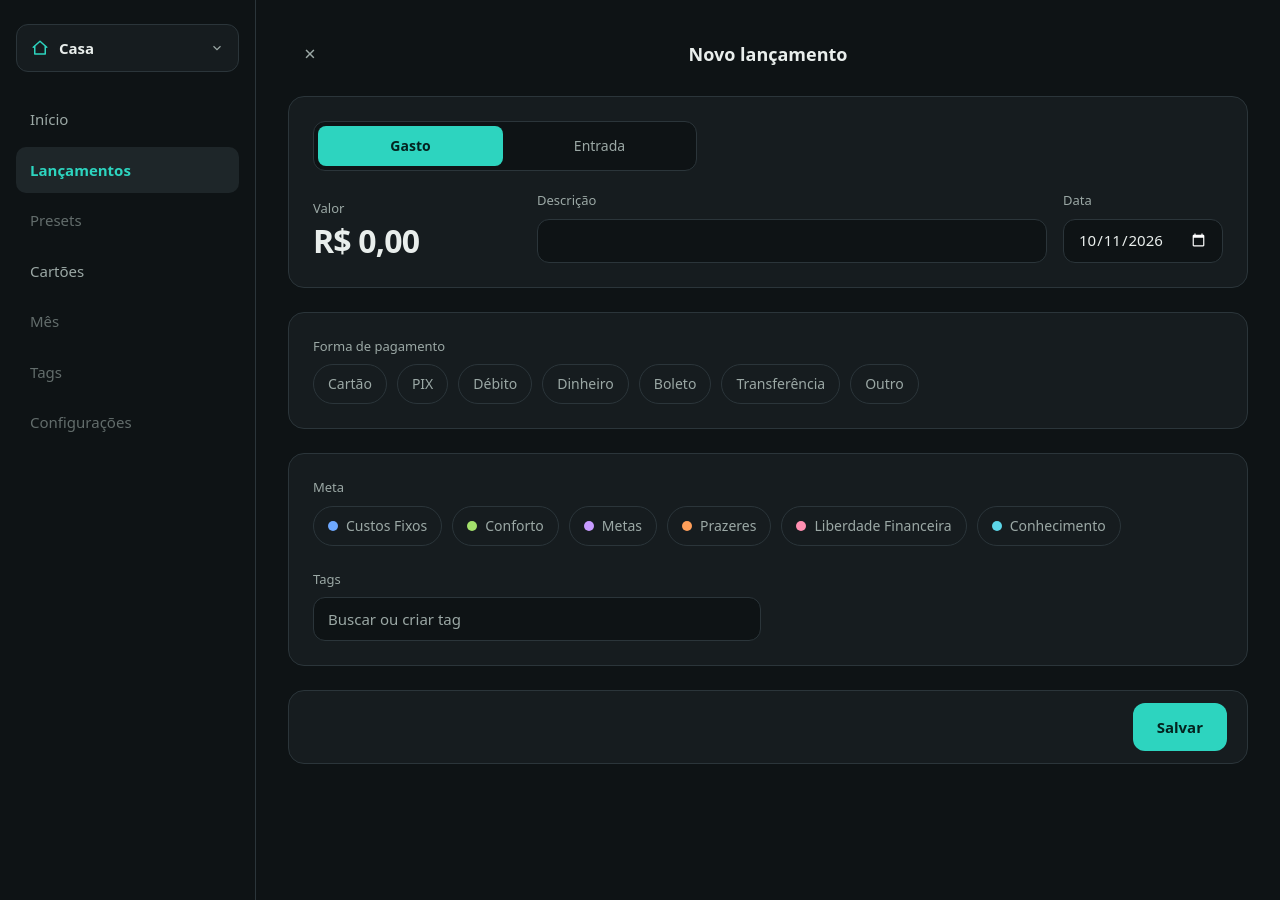
Test case: novo lançamento › envia o valor como texto da API e volta para o mês do lançamento
Type "11000" into the field labelled "Valor".
click(417, 240); type("11000")  # box left=313, top=218, right=521, bottom=262
Type "Conta de luz" into the field labelled "Descrição".
click(792, 240); type("Conta de luz")  # box left=537, top=218, right=1047, bottom=262
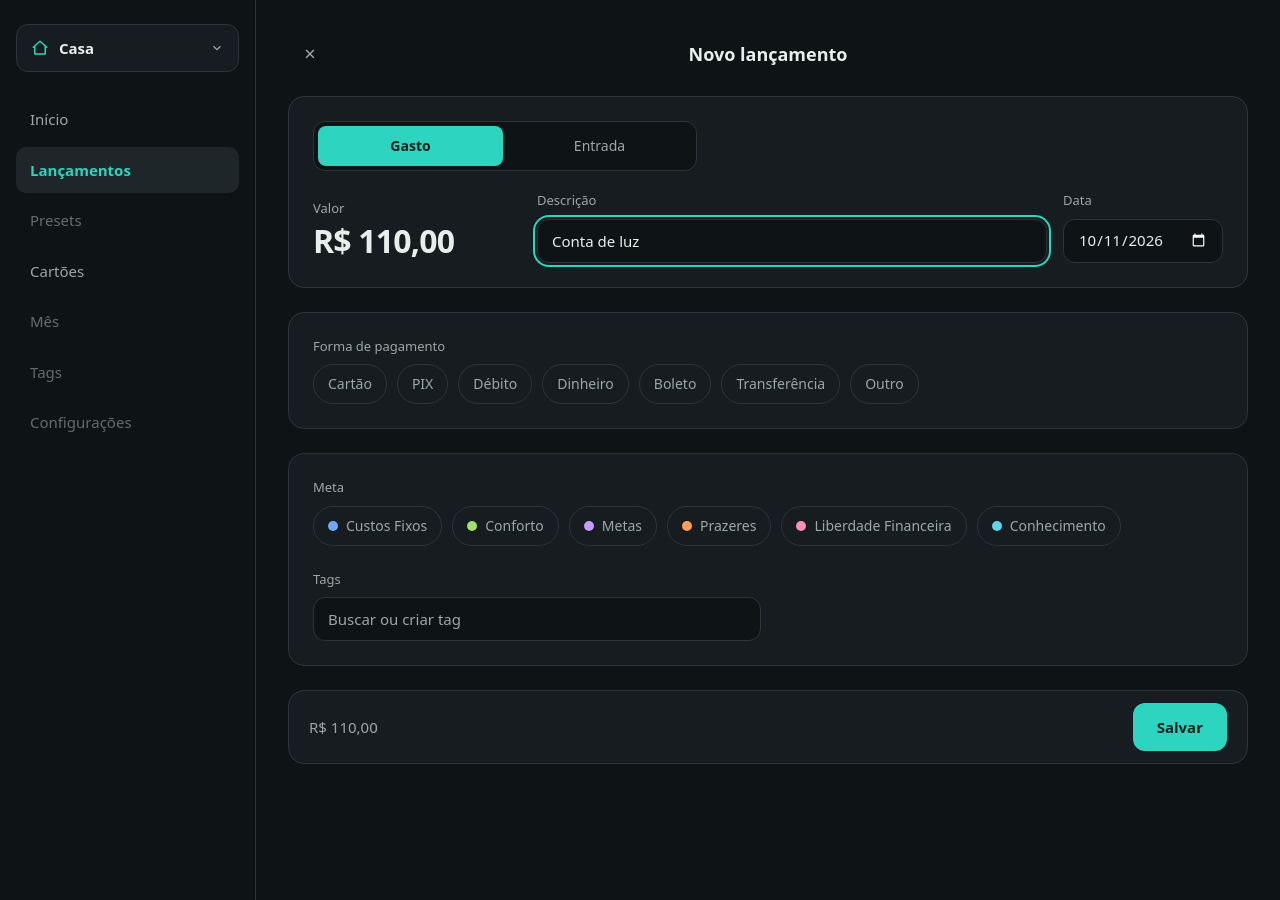
Click the button "Custos Fixos".
click(378, 526)  # box left=313, top=506, right=442, bottom=546
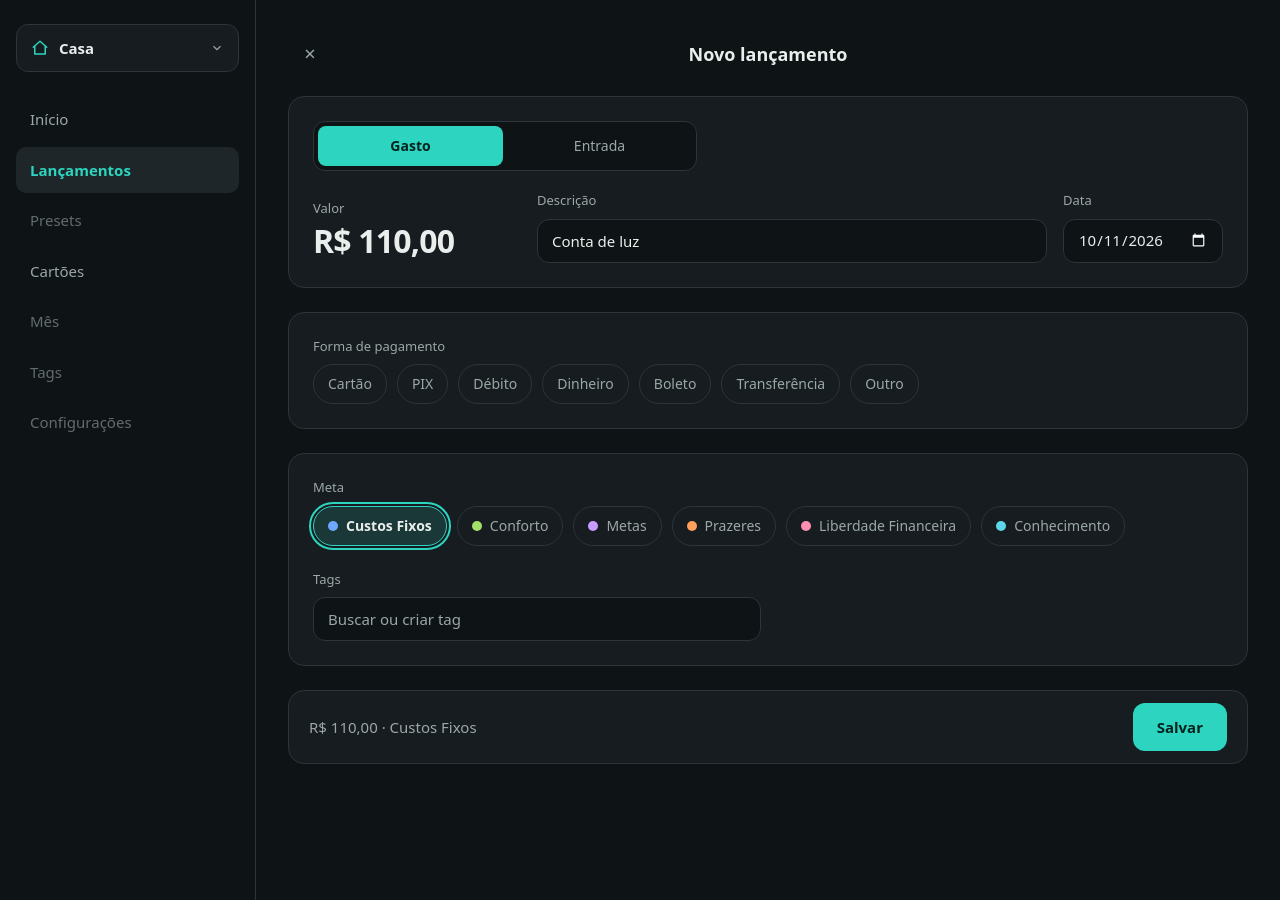
Click the dropdown labelled "Tags".
click(537, 619)  # box left=313, top=597, right=761, bottom=641
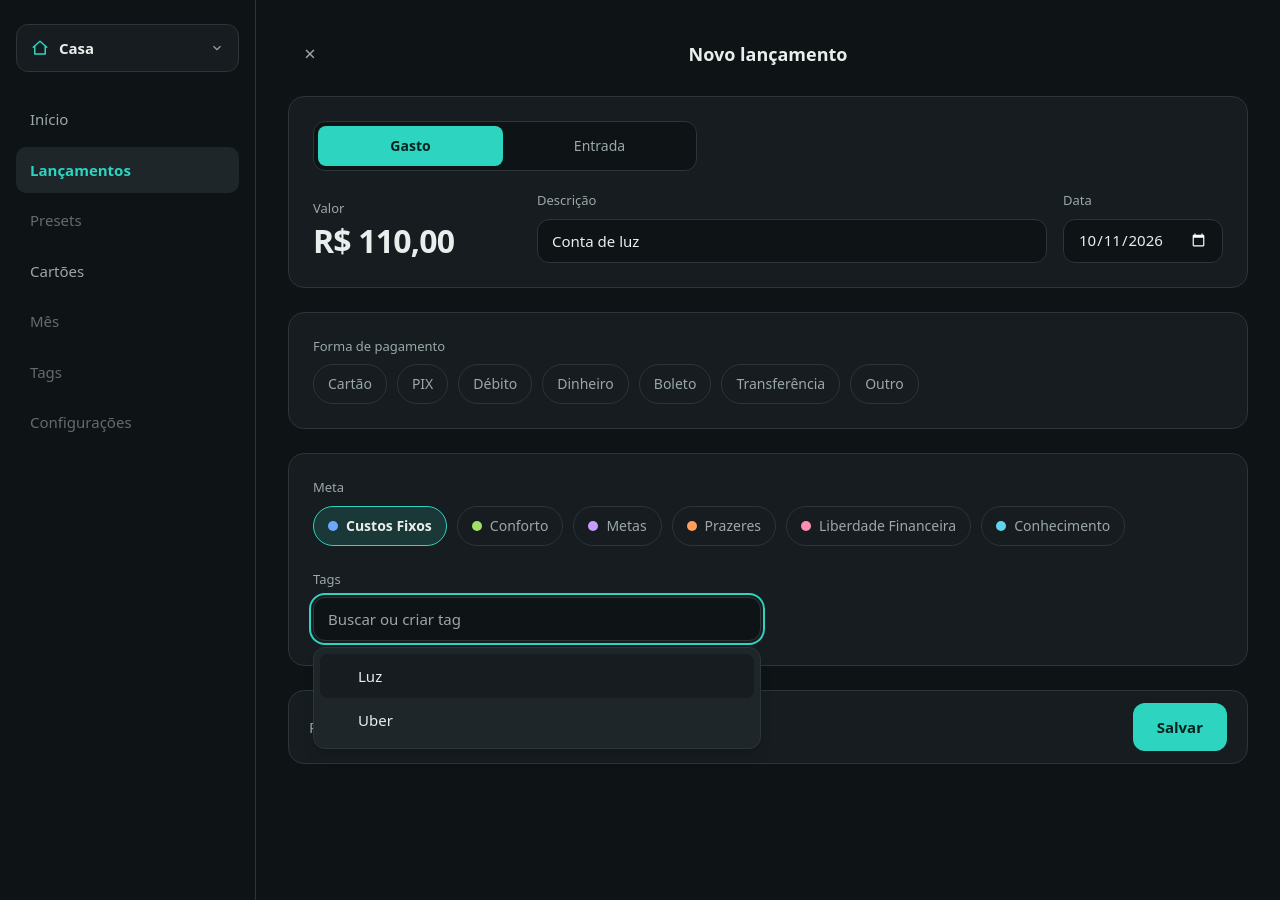
Click the option "Luz".
click(370, 676)  # box left=320, top=654, right=754, bottom=698
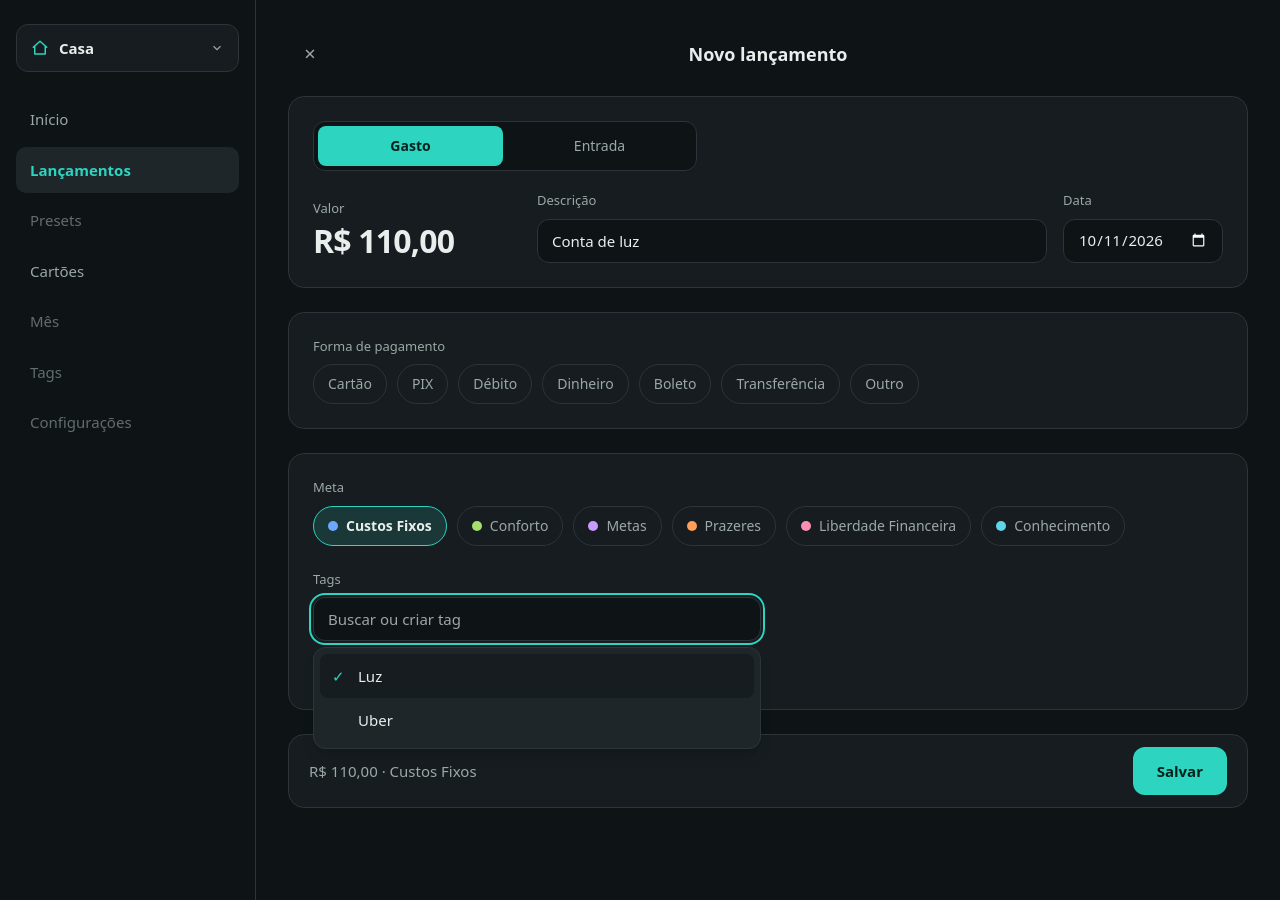
Click the button "PIX".
click(423, 384)  # box left=397, top=364, right=448, bottom=404
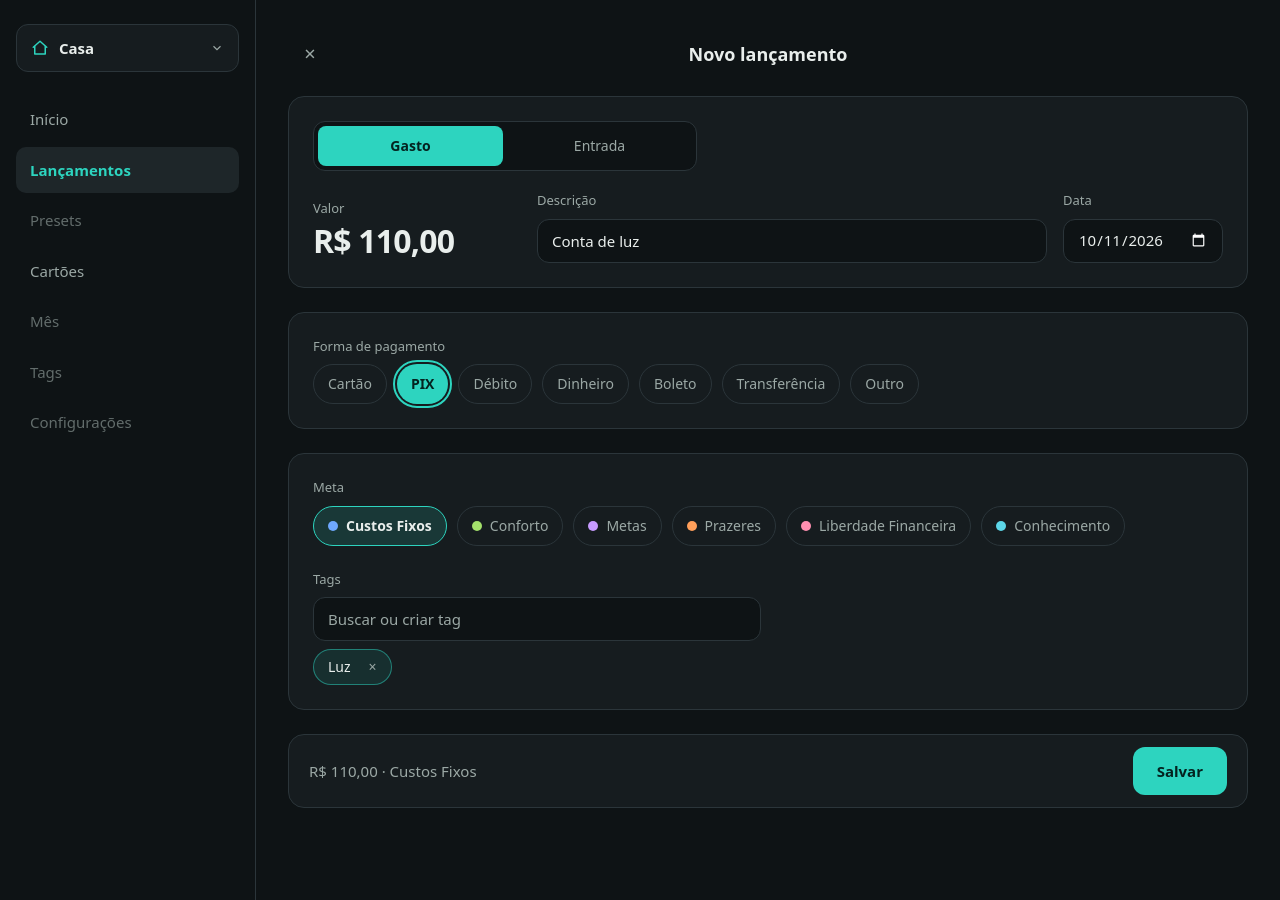
Type "2026-03-10" into the date field labelled "Data".
click(1143, 240); type("2026-03-10")  # box left=1063, top=218, right=1223, bottom=262
Click the button "Salvar".
click(1180, 771)  # box left=1133, top=747, right=1227, bottom=795
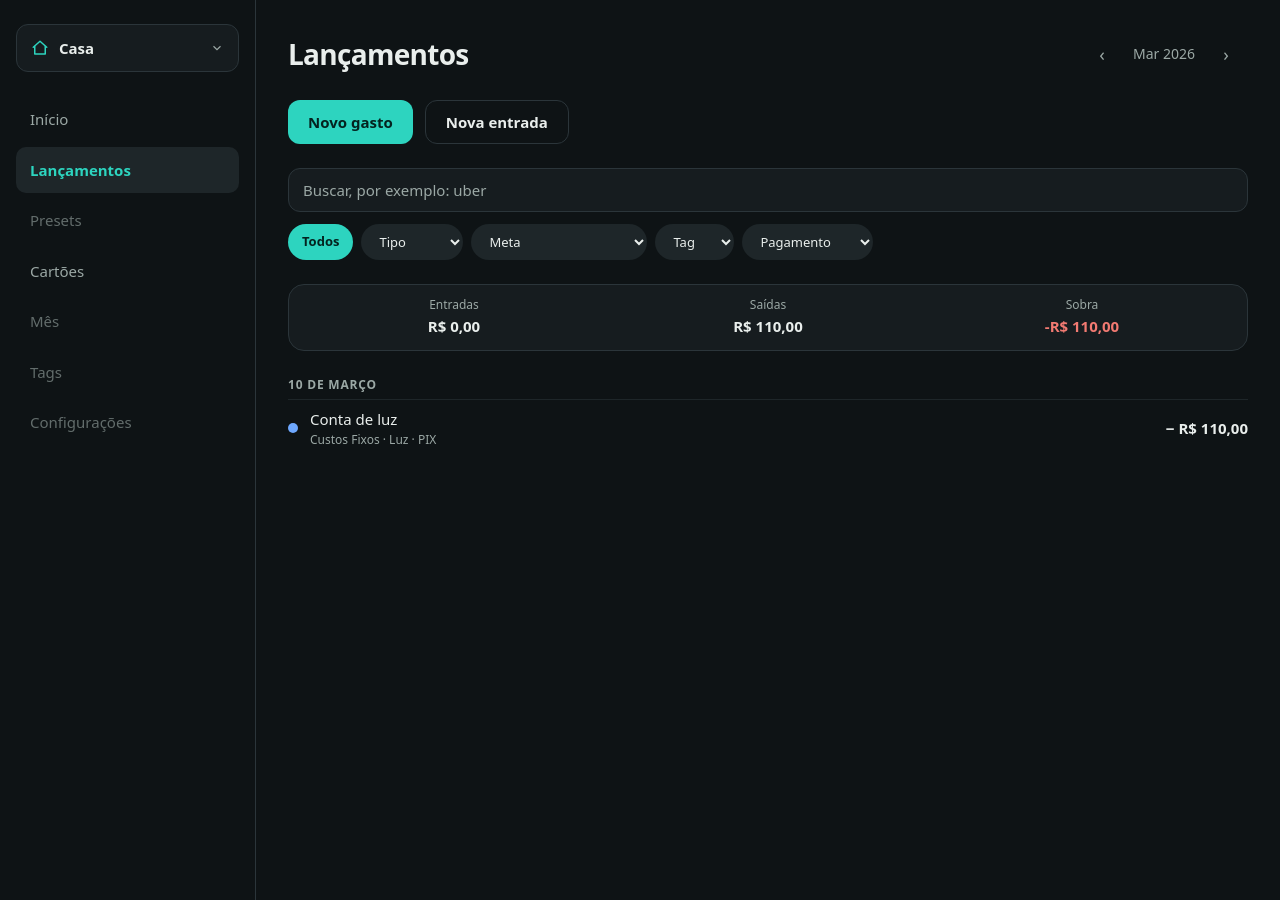
Now the text "Conta de luz" is shown, box left=310, top=408, right=397, bottom=428
